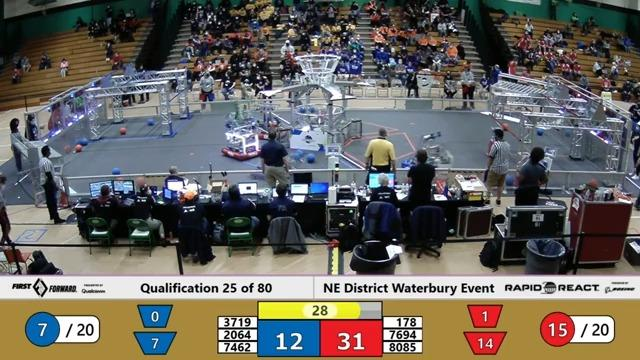robot: (404, 125, 457, 181), (214, 121, 268, 164), (223, 95, 259, 135), (252, 97, 287, 138)
